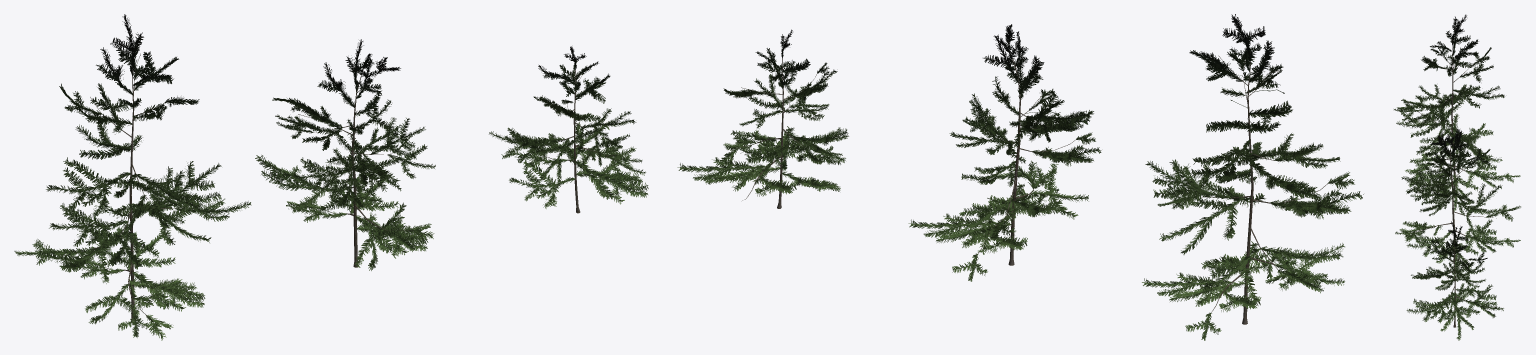
The model's file is fir_sapling_2k.fbx.
3 renders of one model, left to right at view 1: azimuth 30°, elevation 25°; view 2: azimuth 150°, elevation 25°; view 3: azimuth 270°, elevation 25°, orthographic. The views are drawn at different scales.
Parts seen in each view (by area): view 1: fir_sapling_a, fir_sapling_b, fir_sapling_c; view 2: fir_sapling_a, fir_sapling_b, fir_sapling_c; view 3: fir_sapling_a, fir_sapling_b, fir_sapling_c.
Part boxes in pixels (box(x1,y1,x2,y2)): fir_sapling_a: box(14, 14, 251, 340); fir_sapling_b: box(255, 39, 435, 270); fir_sapling_c: box(489, 46, 648, 213); fir_sapling_a: box(1142, 14, 1363, 340); fir_sapling_b: box(908, 24, 1101, 281); fir_sapling_c: box(677, 29, 848, 208); fir_sapling_a: box(1394, 14, 1520, 211); fir_sapling_b: box(1395, 128, 1520, 276); fir_sapling_c: box(1406, 221, 1503, 340).
Bounding box in the file's own units: 274 × 130 × 82.64.
